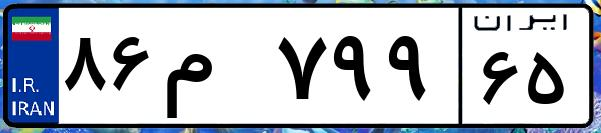5: (525, 38, 570, 115)
6: (475, 38, 525, 113), (110, 28, 158, 98)
7: (270, 28, 330, 110)
8: (57, 26, 110, 100)
9: (385, 28, 445, 110), (330, 28, 385, 110)
م: (158, 20, 270, 120)
